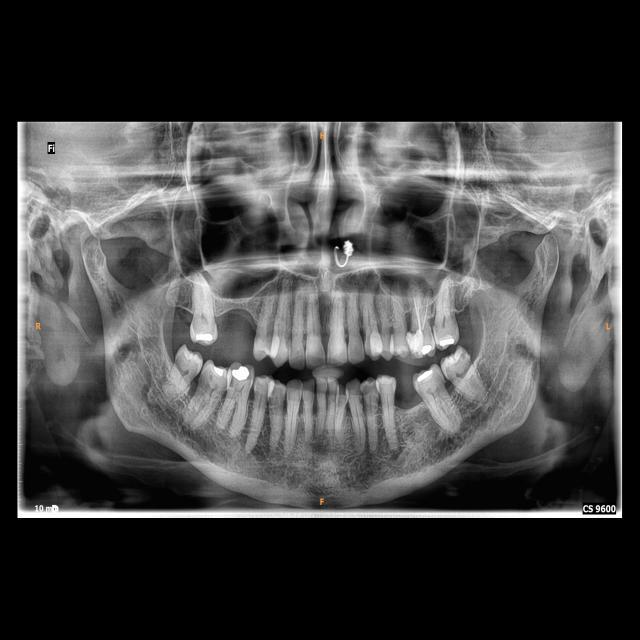dentin-curugu: (334, 380, 351, 410)
dolgu: (188, 328, 222, 348), (411, 332, 435, 359), (229, 361, 250, 387), (436, 329, 458, 351), (416, 368, 440, 386), (209, 364, 228, 380)
kanal-tedavisi: (410, 290, 430, 332)
